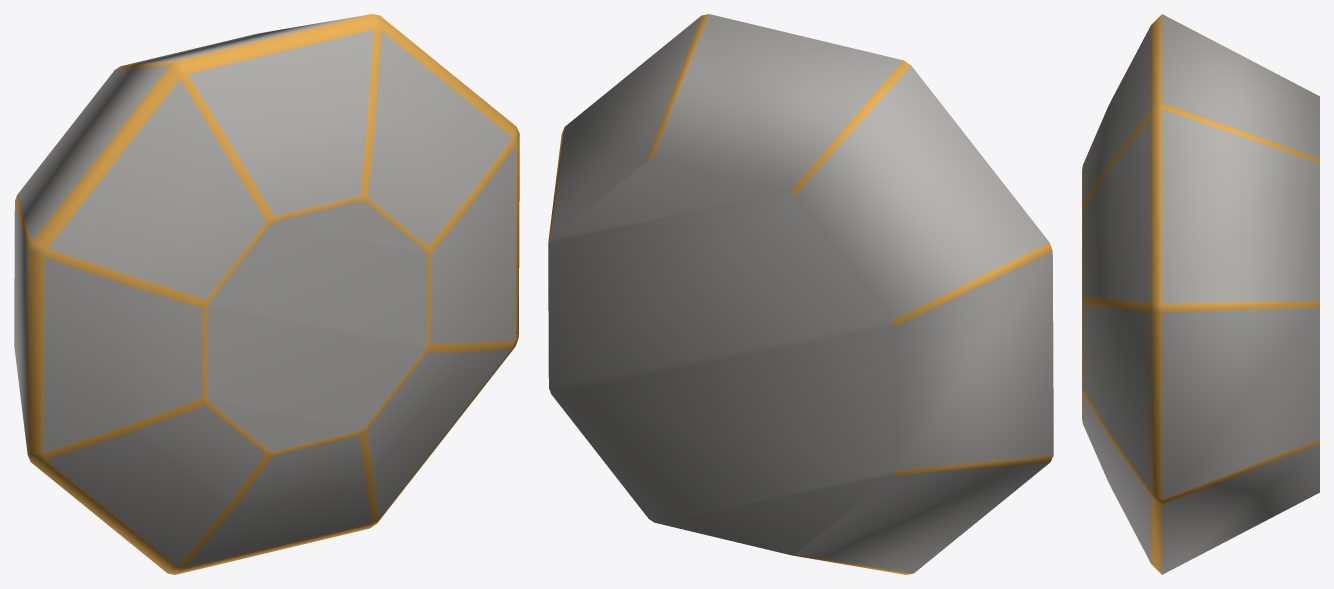
File: thystame.glb
3 renders of one model, left to right at view 1: azimuth 30°, elevation 25°; view 2: azimuth 150°, elevation 25°; view 3: azimuth 270°, elevation 25°, orthographic. The views are drawn at different scales.
Visible parts, largest first — view 1: Cylinder; view 2: Cylinder; view 3: Cylinder.
Boxes of the visible parts, x1,y1,x2,y2 form: Cylinder: (14,14,519,574); Cylinder: (548,14,1053,574); Cylinder: (1082,14,1319,574).
Bounding box in the file's own units: 75.06 × 75.06 × 34.12.
